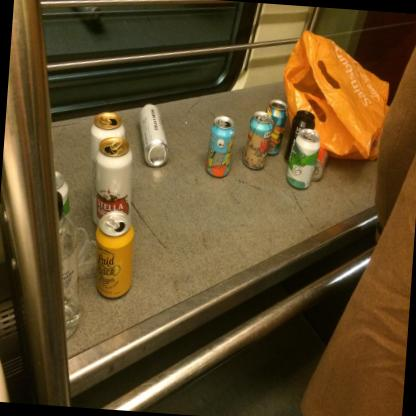Metal: (91, 112, 125, 225), (95, 211, 134, 298), (96, 137, 132, 225), (286, 129, 320, 189), (139, 104, 169, 168), (243, 111, 273, 170), (206, 116, 235, 177), (284, 110, 315, 164), (266, 100, 288, 155), (55, 170, 70, 217), (311, 147, 329, 181), (106, 215, 120, 229), (110, 139, 122, 150), (100, 117, 112, 124), (306, 131, 315, 139), (313, 166, 319, 175), (218, 120, 227, 125), (260, 115, 268, 120)
Plastic: (283, 30, 390, 161), (57, 191, 81, 339)
